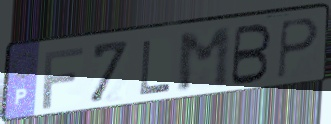7: (91, 39, 132, 107)
B: (228, 22, 275, 88)
F: (41, 45, 86, 111)
L: (138, 38, 174, 97)
M: (177, 24, 233, 96)
P: (276, 16, 321, 83)
